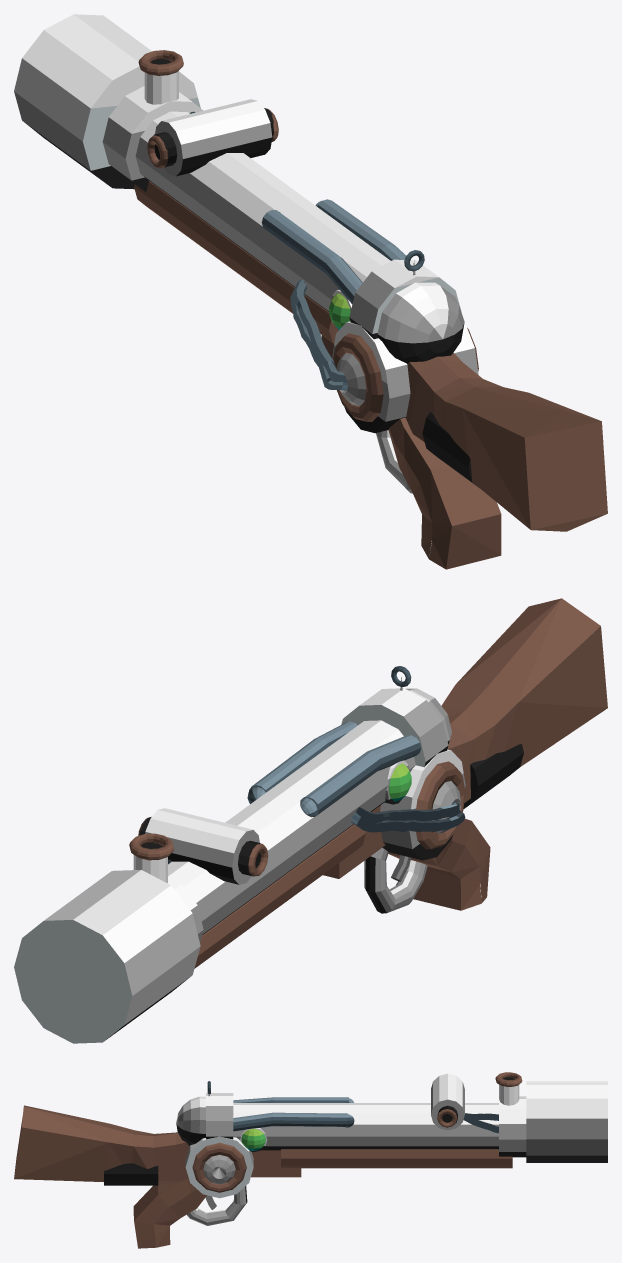
File: Steampunk Rifle.glb
3 renders of one model, top to bottom at view 1: azimuth 30°, elevation 25°; view 2: azimuth 150°, elevation 25°; view 3: azimuth 270°, elevation 25°, orthographic. The views are drawn at different scales.
Visible parts, largest first — view 1: Node; view 2: Node; view 3: Node.
Part boxes in pixels (x1,y1,x2,y2): Node: (14,14,607,569); Node: (14,598,607,1043); Node: (14,1072,607,1248).
Size of the model in its own units: 0.1384 by 0.2675 by 0.8719.
